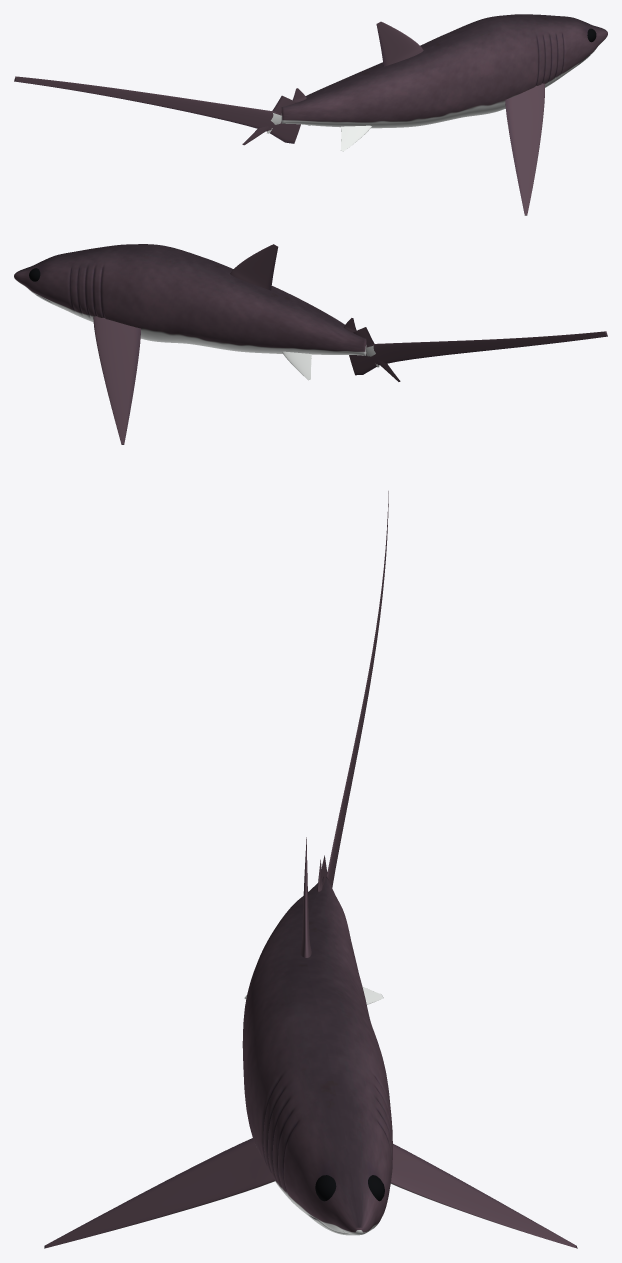
Rendered from bigeye_thresher.glb.
The picture shows the model from 3 angles, top to bottom: view 1: azimuth 30°, elevation 25°; view 2: azimuth 150°, elevation 25°; view 3: azimuth 270°, elevation 25°; orthographic projection. The views are drawn at different scales.
Parts seen in each view (by area): view 1: BigeyeThresher_Body, BigeyeThresher_Fins; view 2: BigeyeThresher_Body, BigeyeThresher_Fins; view 3: BigeyeThresher_Body, BigeyeThresher_Fins.
Part boxes in pixels (bbox=[...]): BigeyeThresher_Body: bbox=[281, 14, 607, 128]; BigeyeThresher_Fins: bbox=[14, 21, 544, 215]; BigeyeThresher_Body: bbox=[14, 244, 366, 355]; BigeyeThresher_Fins: bbox=[93, 244, 607, 444]; BigeyeThresher_Body: bbox=[242, 877, 392, 1235]; BigeyeThresher_Fins: bbox=[44, 491, 577, 1248].
Bounding box in the file's own units: 3.5 × 1.03 × 1.38.
3 materials, 1 textured.
